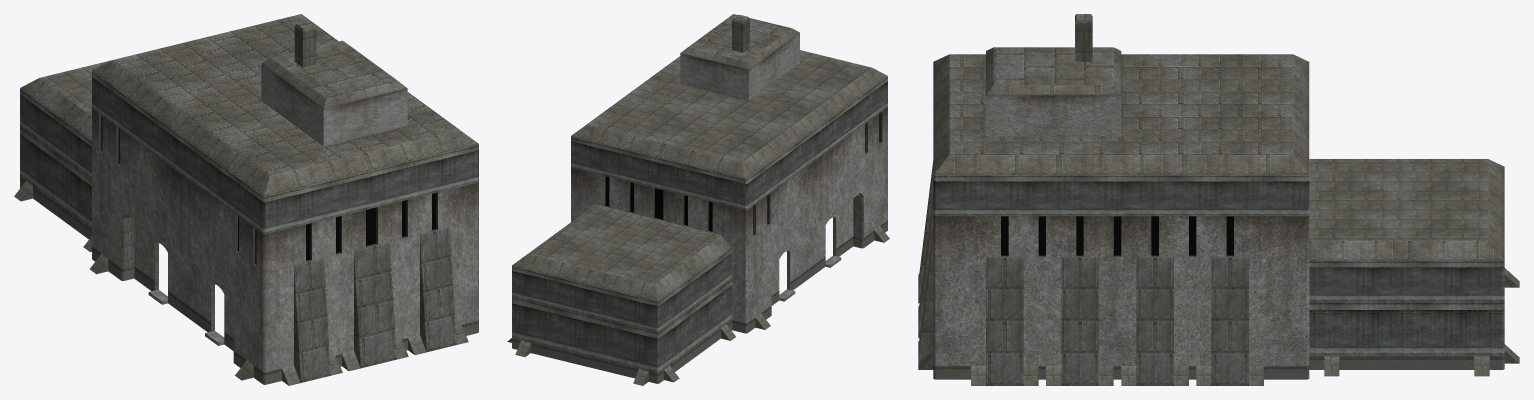
Rendered from thm_corl_imprv_slum_16x32_s01_r0_mesh_l0.fbx.
The picture shows the model from 3 angles, left to right: view 1: azimuth 30°, elevation 25°; view 2: azimuth 150°, elevation 25°; view 3: azimuth 270°, elevation 25°; orthographic projection. The views are drawn at different scales.
Parts seen in each view (by area): view 1: mesh_node; view 2: mesh_node; view 3: mesh_node.
Part boxes in pixels (left/top/right/bottom): mesh_node: left=14, top=14, right=478, bottom=385; mesh_node: left=507, top=14, right=889, bottom=385; mesh_node: left=918, top=14, right=1519, bottom=385.
Size of the model in its own units: 16 by 18.03 by 32.
